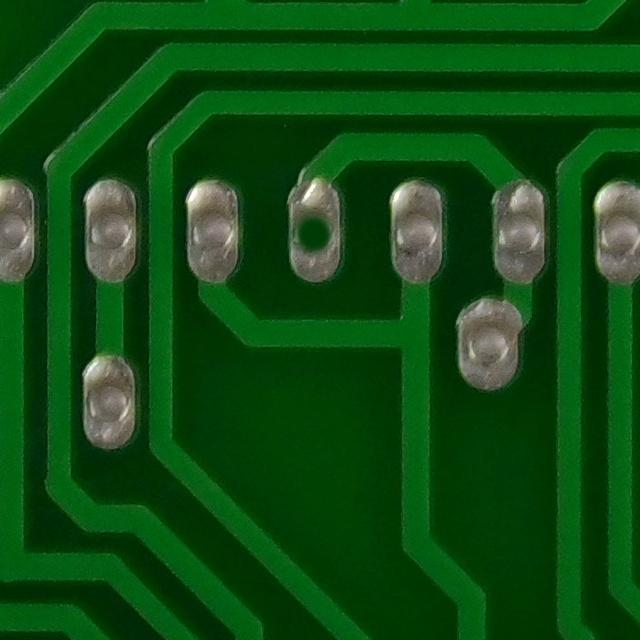missing_hole: (279, 188, 356, 280)
